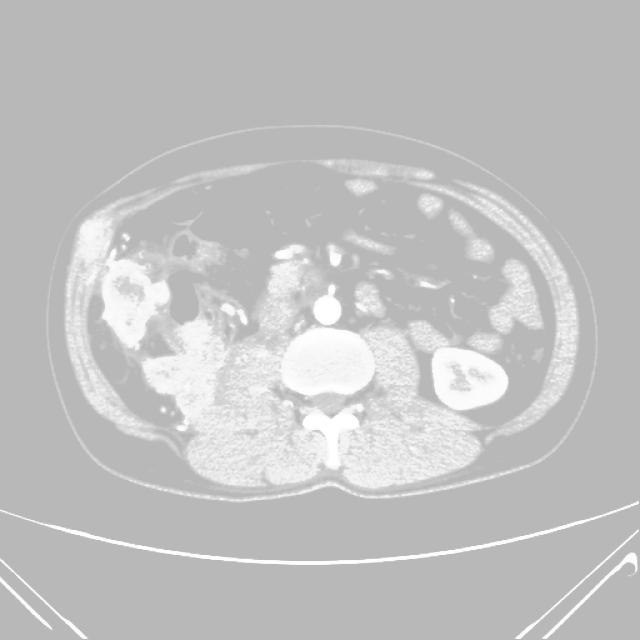TUMOR: (130, 198, 584, 419)
